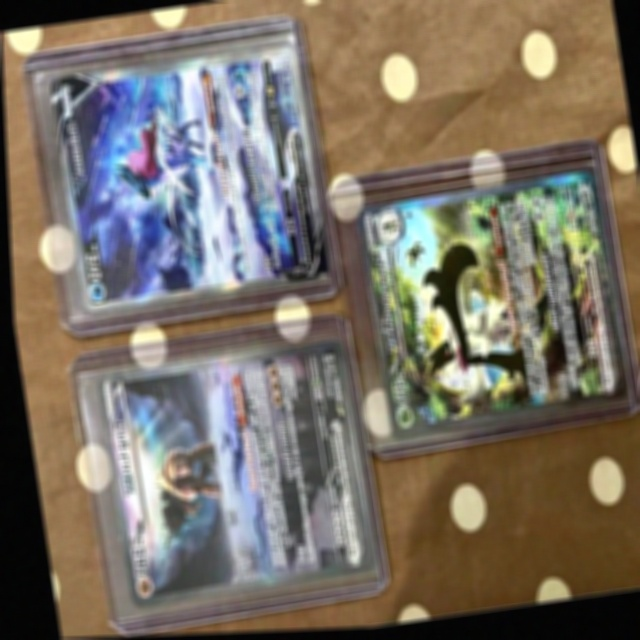card: (91, 339, 370, 609), (48, 46, 326, 314), (353, 174, 625, 443)
